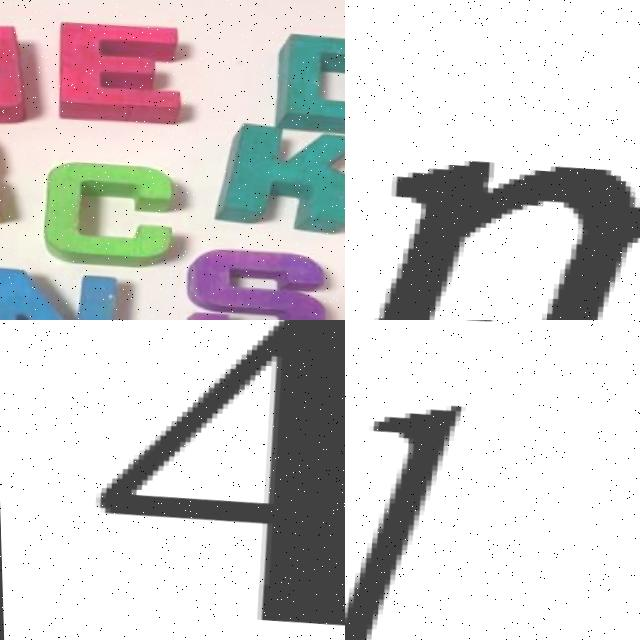C: (45, 161, 177, 268)
D: (270, 30, 345, 133)
E: (52, 16, 180, 128)
J: (345, 320, 540, 640)
K: (205, 124, 345, 238)
M: (345, 126, 640, 320)
N: (0, 262, 128, 320)
S: (175, 245, 330, 320)
W: (0, 17, 31, 125)
